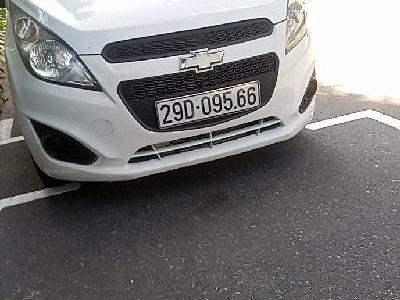number: (156, 80, 262, 128)
